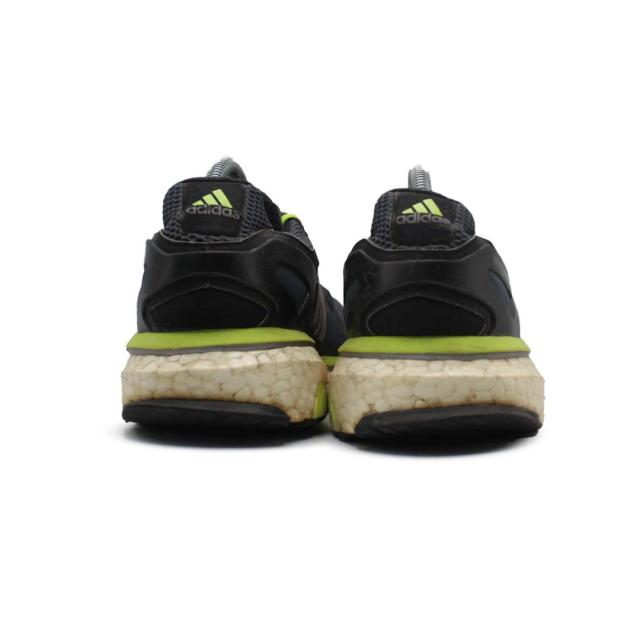heel: (333, 193, 520, 336), (138, 179, 304, 328)
midsole: (325, 338, 544, 440), (123, 328, 327, 435)
